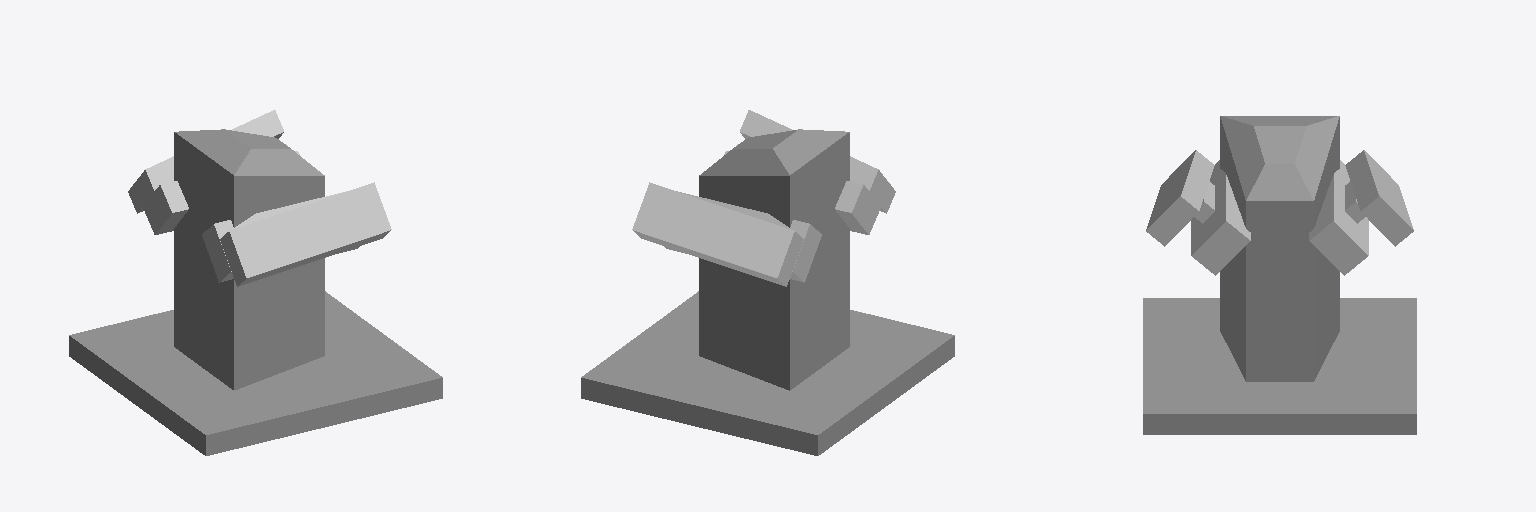
File: weapon_macgun2.obj
3 views of the same model, side by side, from view 1: azimuth 30°, elevation 25°; view 2: azimuth 150°, elevation 25°; view 3: azimuth 270°, elevation 25° (orthographic).
Visible parts, largest first — view 1: Cube.001, Cube.002; view 2: Cube.001, Cube.002; view 3: Cube.001, Cube.002.
Part boxes in pixels (x1,y1,x2,y2): Cube.001: (69, 129, 442, 455); Cube.002: (128, 110, 391, 286); Cube.001: (581, 129, 954, 455); Cube.002: (632, 110, 895, 286); Cube.001: (1143, 116, 1416, 434); Cube.002: (1146, 150, 1413, 275).
Size of the model in its own units: 2 by 1.96 by 2.